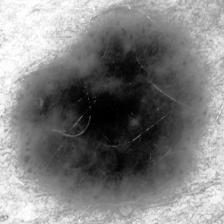Benign Marking or Mole: (17, 17, 207, 195)
